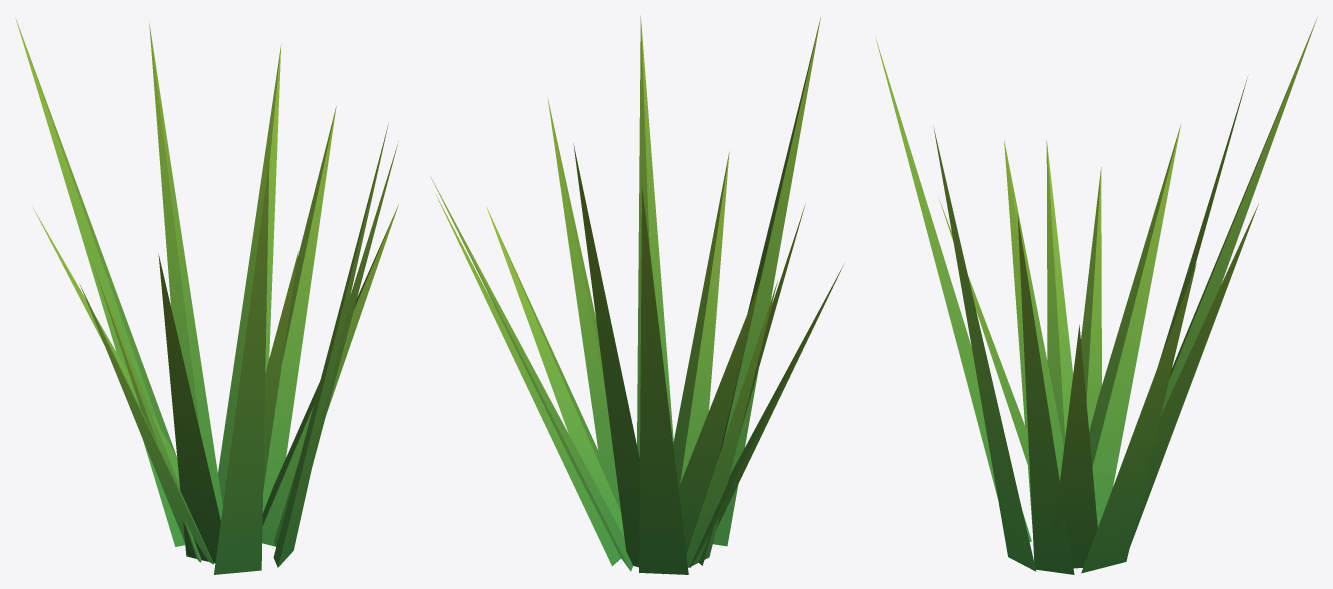
Rendered from rice_shoots.glb.
3 views of the same model, side by side, from view 1: azimuth 30°, elevation 25°; view 2: azimuth 150°, elevation 25°; view 3: azimuth 270°, elevation 25° (orthographic). The views are drawn at different scales.
Visible parts, largest first — view 1: rice_shoots; view 2: rice_shoots; view 3: rice_shoots.
Boxes of the visible parts, x1=… form: rice_shoots: x1=15, y1=17, x2=398, y2=574; rice_shoots: x1=430, y1=15, x2=843, y2=574; rice_shoots: x1=875, y1=17, x2=1317, y2=574.
Bounding box in the file's own units: 0.3543 × 0.4746 × 0.3923.
1 material, 1 textured.
